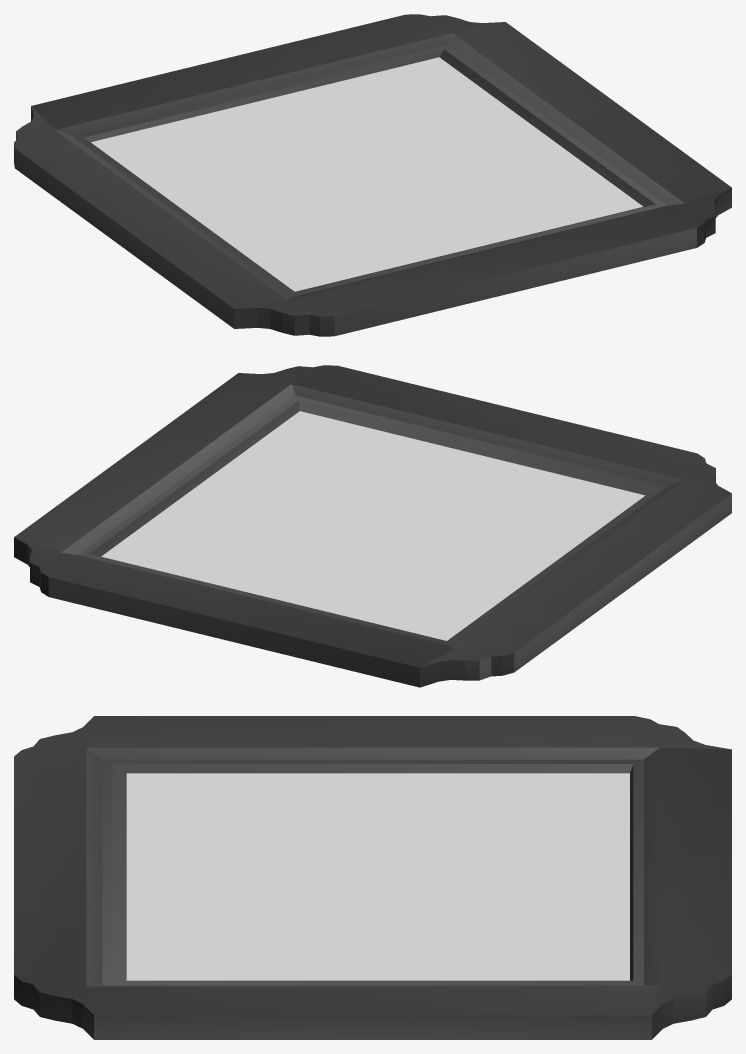
File: pic4.fbx
3 views of the same model, one above another, from view 1: azimuth 30°, elevation 25°; view 2: azimuth 150°, elevation 25°; view 3: azimuth 270°, elevation 25° (orthographic). The views are drawn at different scales.
Visible parts, largest first — view 1: PicFrame3.001; view 2: PicFrame3.001; view 3: PicFrame3.001.
Boxes of the visible parts, left/top/right/bottom form: PicFrame3.001: left=14, top=14, right=731, bottom=336; PicFrame3.001: left=14, top=365, right=731, bottom=687; PicFrame3.001: left=14, top=716, right=731, bottom=1039.
Size of the model in its own units: 296 by 11.38 by 300.
